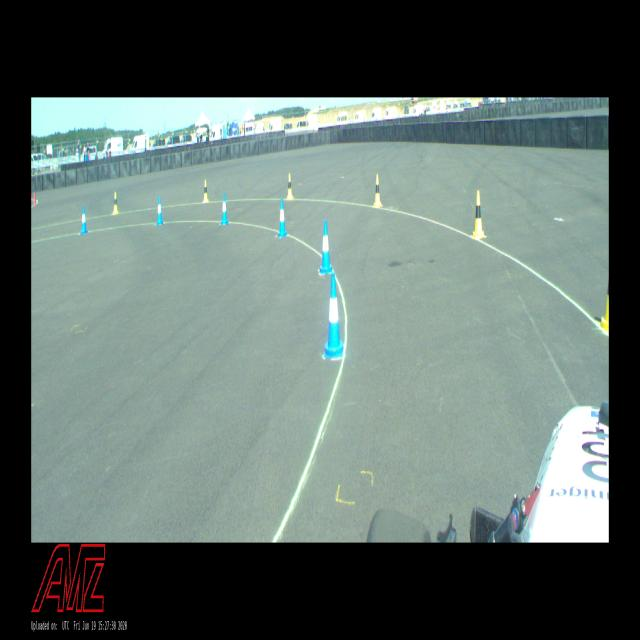blue_cone: (323, 274, 345, 358), (320, 220, 332, 273), (277, 198, 287, 238), (221, 193, 228, 225), (80, 206, 88, 234), (156, 197, 164, 225)
unknown_cone: (34, 192, 36, 206)
yellow_cone: (471, 191, 487, 239), (598, 278, 609, 334), (373, 175, 382, 207), (287, 172, 293, 200), (112, 192, 119, 214), (203, 180, 209, 202)
